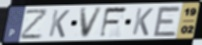E: (152, 6, 183, 38)
F: (98, 6, 129, 40)
K: (47, 9, 72, 39), (131, 7, 155, 37)
V: (79, 6, 105, 40)
Z: (19, 8, 50, 41)
